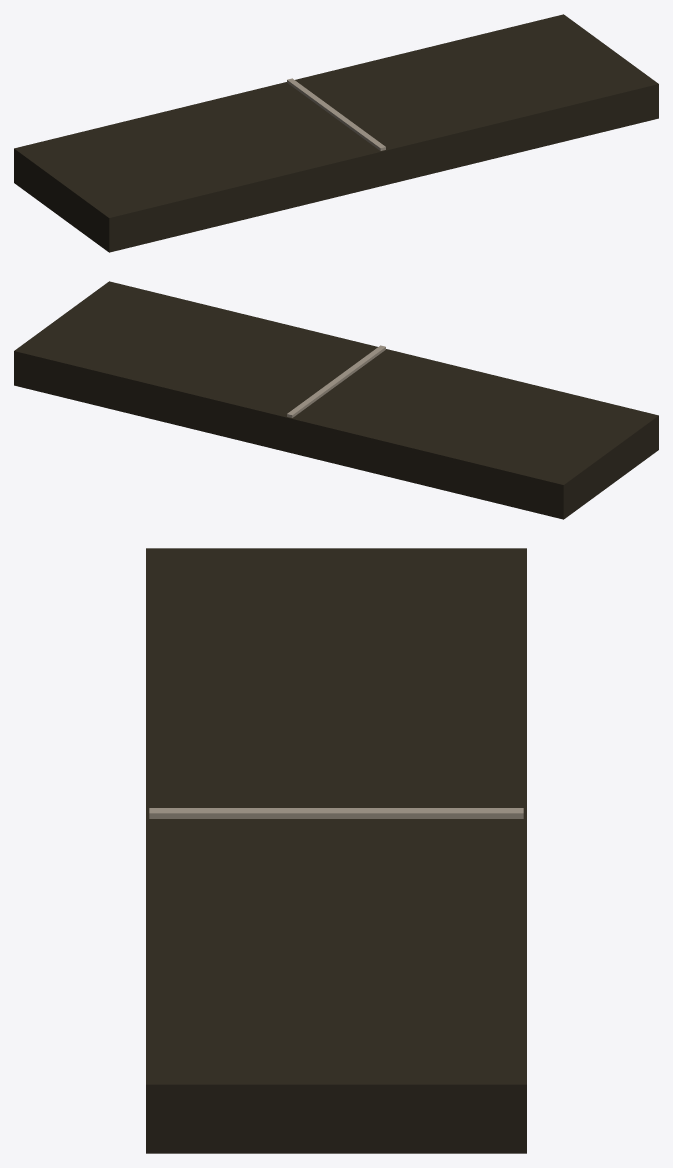
File: GuitarStage-2.fbx
The picture shows the model from 3 angles, top to bottom: view 1: azimuth 30°, elevation 25°; view 2: azimuth 150°, elevation 25°; view 3: azimuth 270°, elevation 25°; orthographic projection. The views are drawn at different scales.
Parts seen in each view (by area): view 1: 立方体.043, 立方体.042; view 2: 立方体.043, 立方体.042; view 3: 立方体.043, 立方体.042.
Boxes of the visible parts, left/top/right/bottom form: 立方体.043: left=14, top=14, right=658, bottom=252; 立方体.042: left=287, top=78, right=385, bottom=150; 立方体.043: left=14, top=281, right=658, bottom=519; 立方体.042: left=287, top=345, right=385, bottom=417; 立方体.043: left=146, top=548, right=526, bottom=1153; 立方体.042: left=149, top=808, right=523, bottom=818.
Bounding box in the file's own units: 10000 × 650 × 3000.
